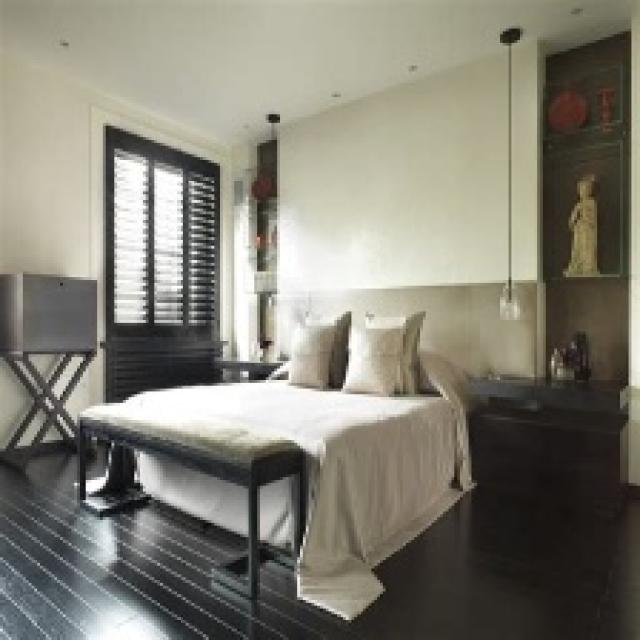Bed: (74, 346, 477, 620)
